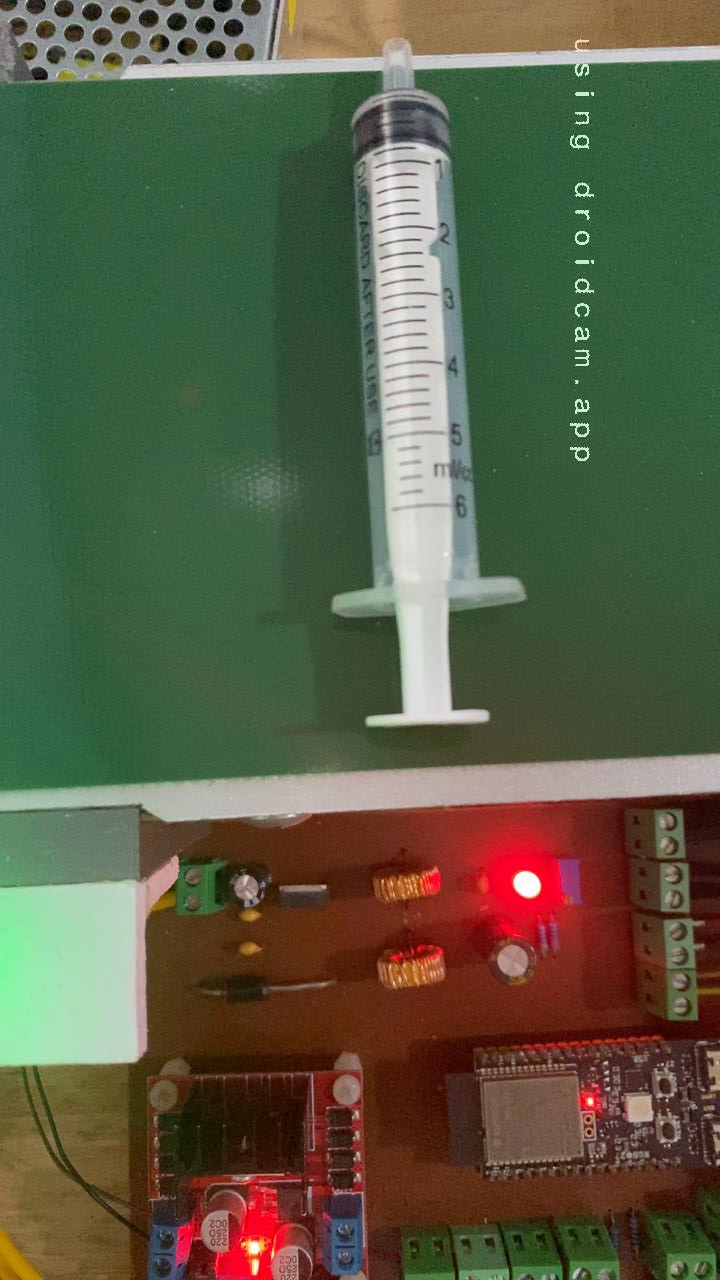syringe: (0, 68, 720, 771)
